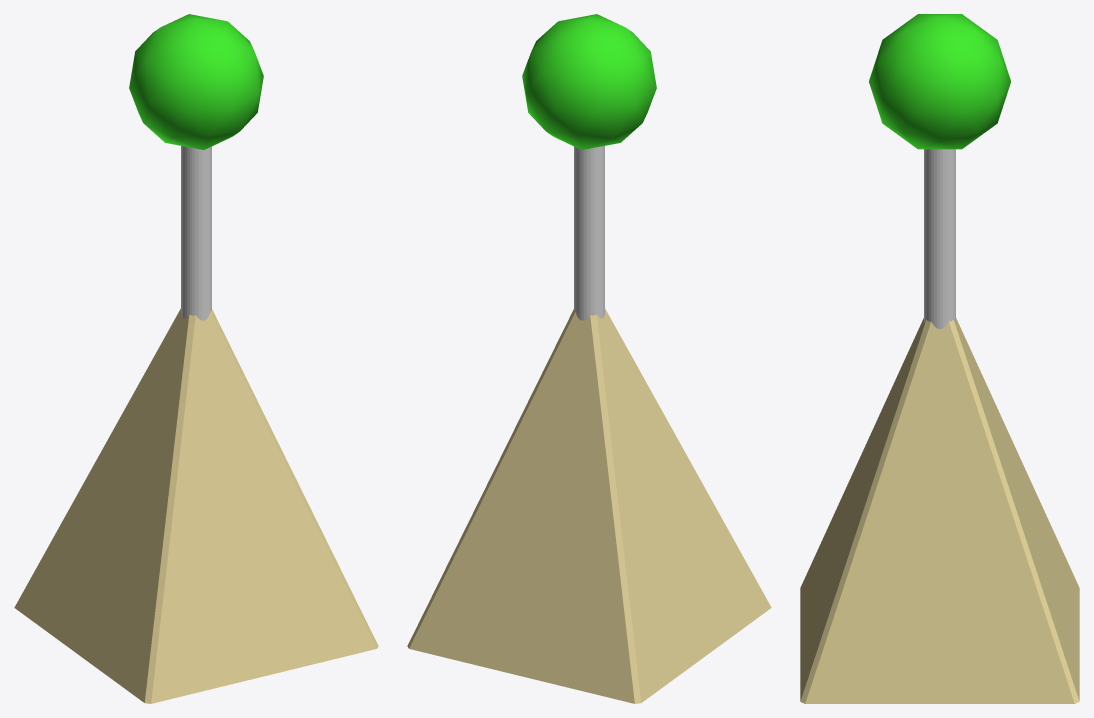
Rendered from LightningTower.fbx.
3 views of the same model, side by side, from view 1: azimuth 30°, elevation 25°; view 2: azimuth 150°, elevation 25°; view 3: azimuth 270°, elevation 25° (orthographic). The views are drawn at different scales.
Visible parts, largest first — view 1: LightningTowerBase, LightningTowerTurret, Cylinder; view 2: LightningTowerBase, LightningTowerTurret, Cylinder; view 3: LightningTowerBase, LightningTowerTurret, Cylinder.
Part boxes in pixels (x1=…): LightningTowerBase: x1=14, y1=308, x2=378, y2=703; LightningTowerTurret: x1=129, y1=14, x2=263, y2=149; Cylinder: x1=181, y1=146, x2=211, y2=320; LightningTowerBase: x1=407, y1=308, x2=771, y2=703; LightningTowerTurret: x1=522, y1=14, x2=656, y2=149; Cylinder: x1=574, y1=146, x2=604, y2=320; LightningTowerBase: x1=800, y1=318, x2=1079, y2=703; LightningTowerTurret: x1=869, y1=14, x2=1010, y2=149; Cylinder: x1=924, y1=149, x2=955, y2=329.
Size of the model in its own units: 200 by 496 by 200.
